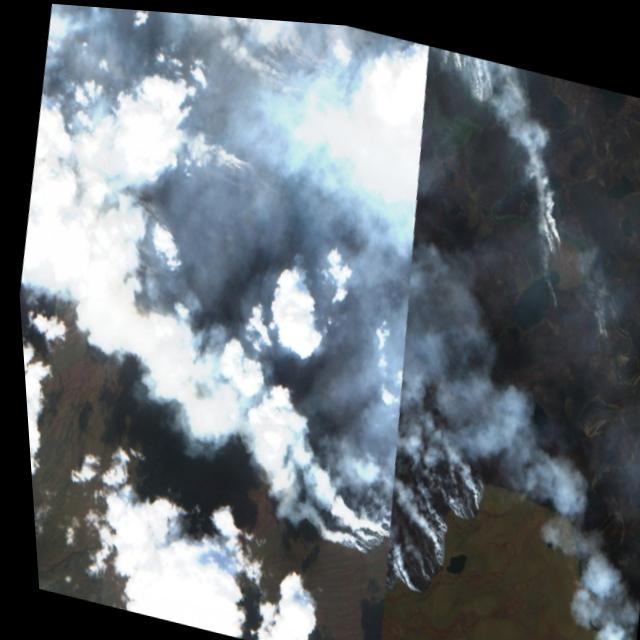fire: (0, 0, 623, 627)
